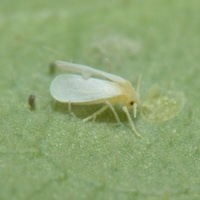insect: (49, 61, 141, 137)
